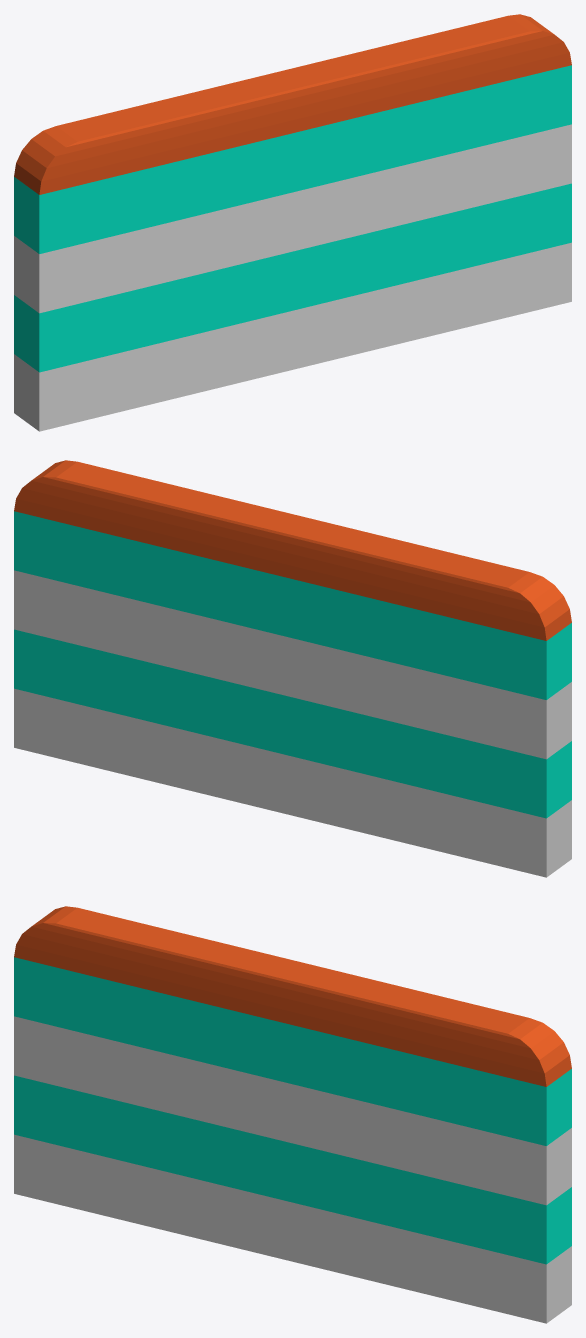
Rendered from Simmple.fbx.
The picture shows the model from 3 angles, top to bottom: view 1: azimuth 30°, elevation 25°; view 2: azimuth 150°, elevation 25°; view 3: azimuth 330°, elevation 25°; orthographic projection.
Visible parts, largest first — view 1: Cube.005; view 2: Cube.005; view 3: Cube.005.
Boxes of the visible parts, x1,y1,x2,y2 form: Cube.005: (14,14,571,431); Cube.005: (14,460,571,877); Cube.005: (14,906,571,1323).
Bounding box in the file's own units: 1270 × 635 × 105.
